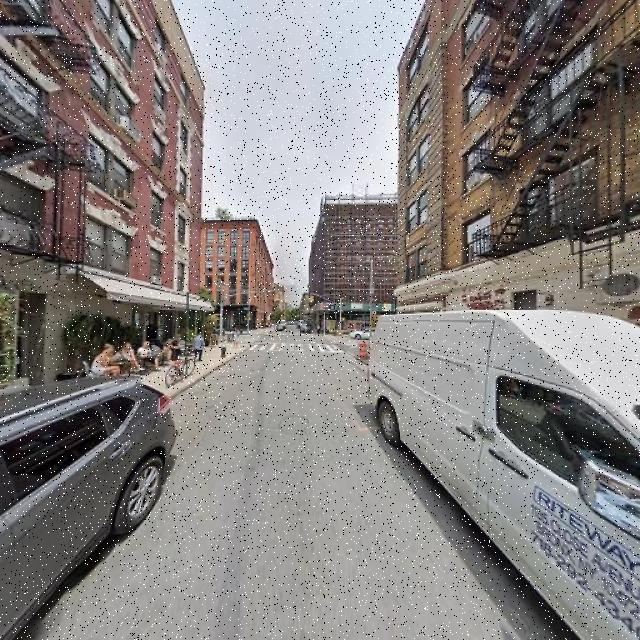Building: (400, 1, 640, 412), (1, 1, 202, 385), (325, 203, 392, 333), (210, 220, 255, 332)
